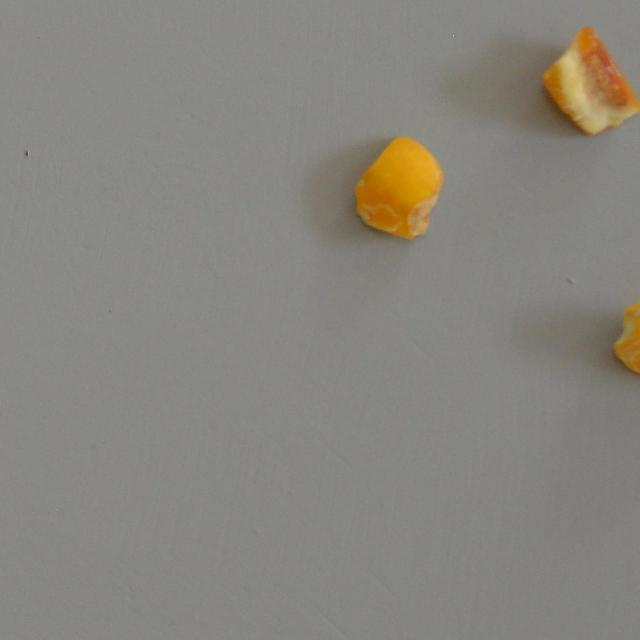dañado: (538, 23, 640, 140), (350, 132, 448, 242), (606, 292, 640, 398)
